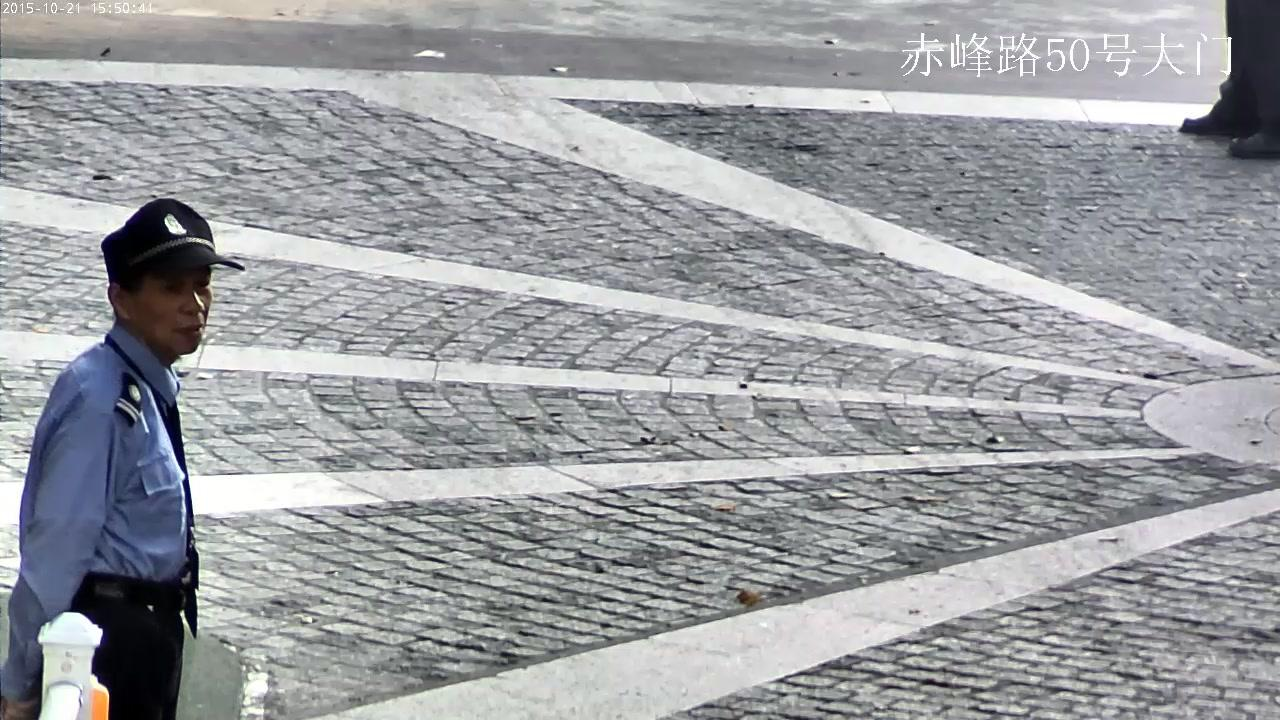face: (131, 266, 211, 353)
